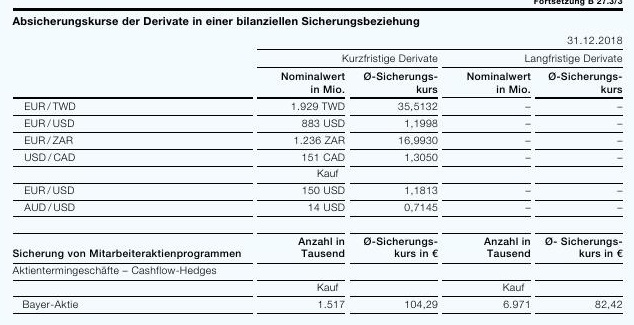table: (0, 0, 634, 325)
